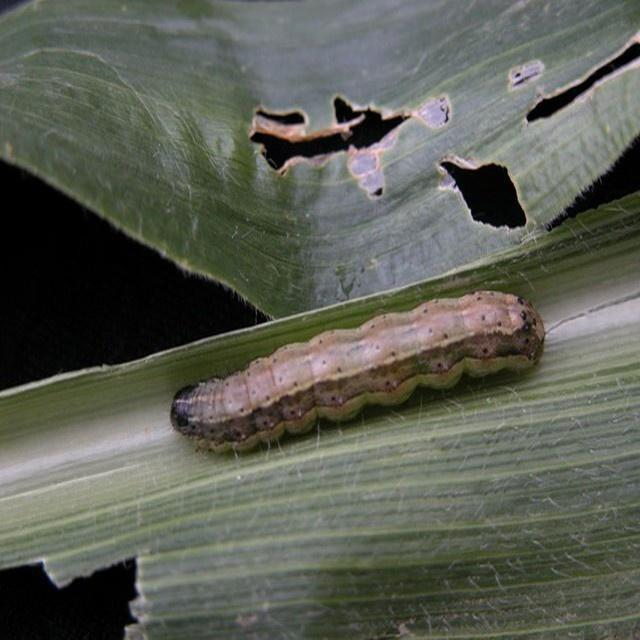pest: (153, 310, 564, 444)
